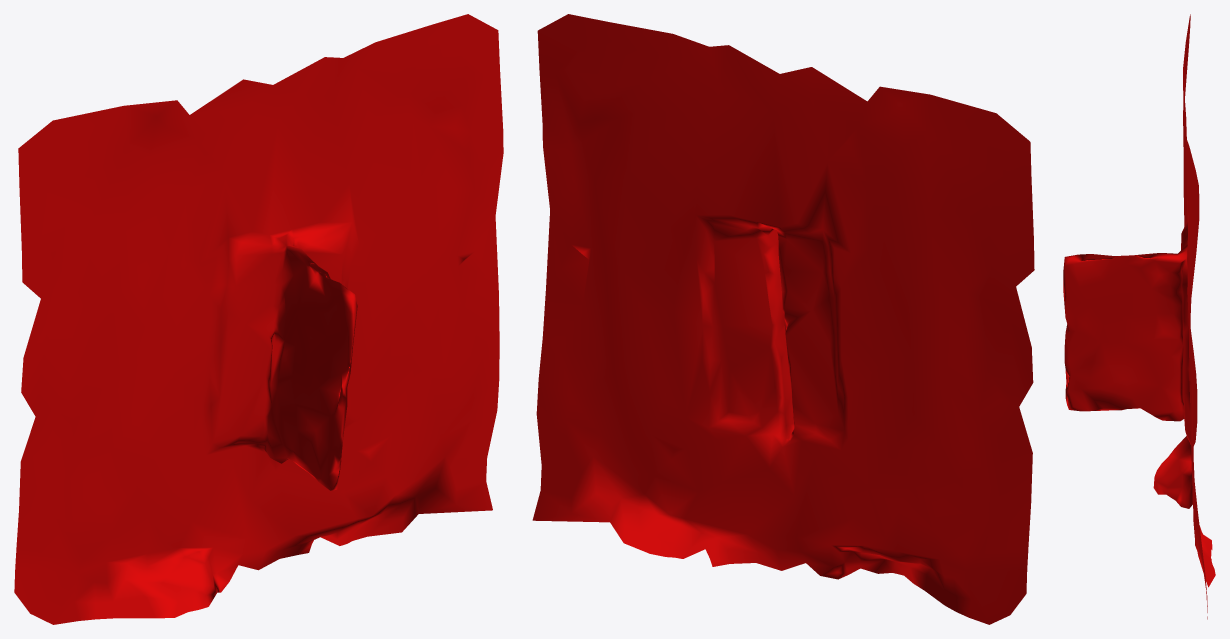
The model's file is simplified_mesh.obj.
3 renders of one model, left to right at view 1: azimuth 30°, elevation 25°; view 2: azimuth 150°, elevation 25°; view 3: azimuth 270°, elevation 25°, orthographic. The views are drawn at different scales.
Size of the model in its own units: 0.7971 by 0.7972 by 0.2584.
